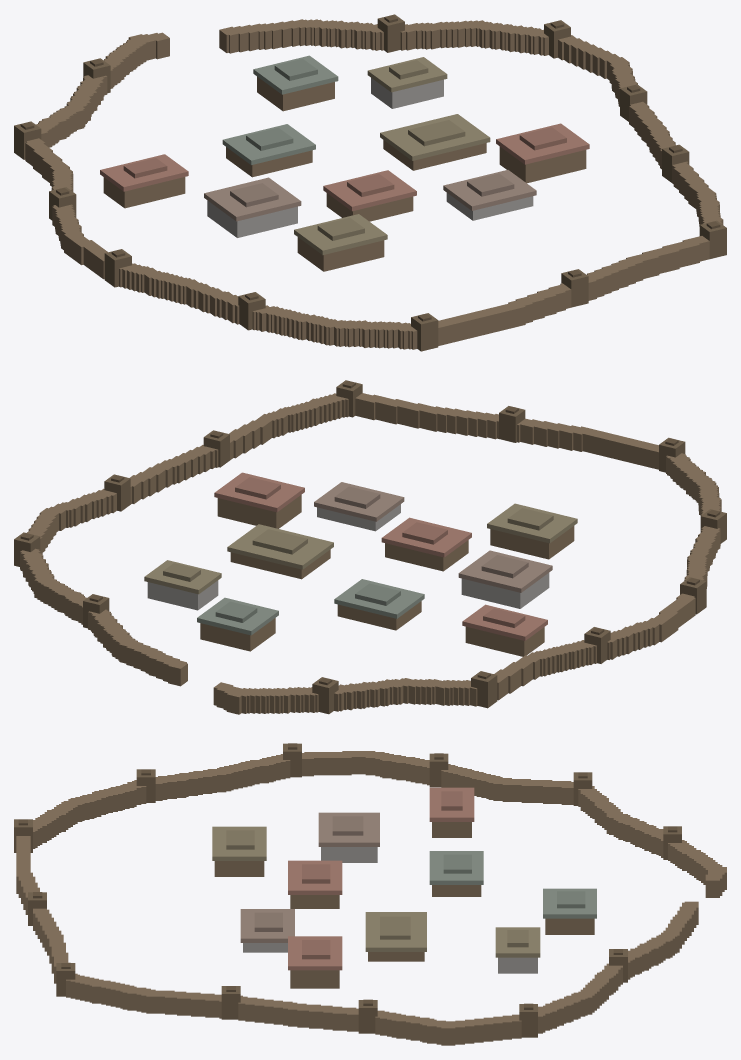
Rendered from ciudad_guarida_bandidos_2551_773_01.glb.
3 views of the same model, one above another, from view 1: azimuth 30°, elevation 25°; view 2: azimuth 150°, elevation 25°; view 3: azimuth 270°, elevation 25° (orthographic). The views are drawn at different scales.
Visible parts, largest first — view 1: ciudad_guarida_bandidos_2551_773; view 2: ciudad_guarida_bandidos_2551_773; view 3: ciudad_guarida_bandidos_2551_773.
Part boxes in pixels (<box>): ciudad_guarida_bandidos_2551_773: <box>14,14,726,351</box>; ciudad_guarida_bandidos_2551_773: <box>14,380,726,714</box>; ciudad_guarida_bandidos_2551_773: <box>14,743,726,1045</box>.
Size of the model in its own units: 69.5 by 3.25 by 75.5.
